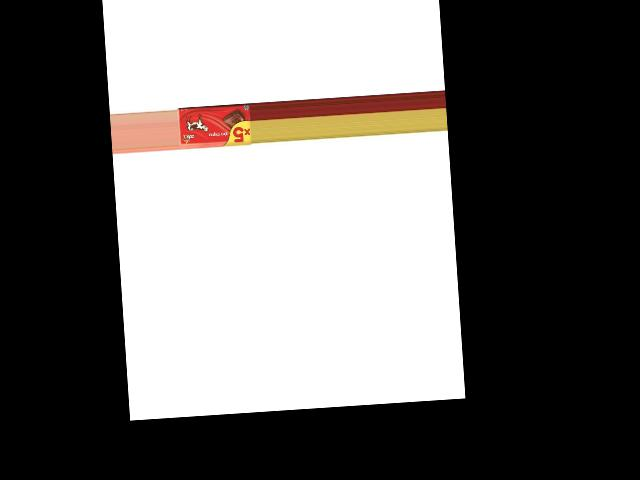chocolate: (176, 103, 251, 151)
